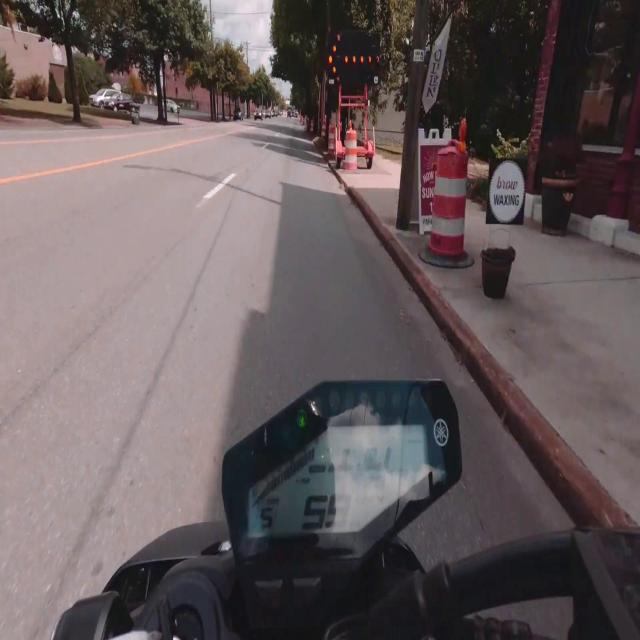motorcycle: (52, 381, 639, 639)
